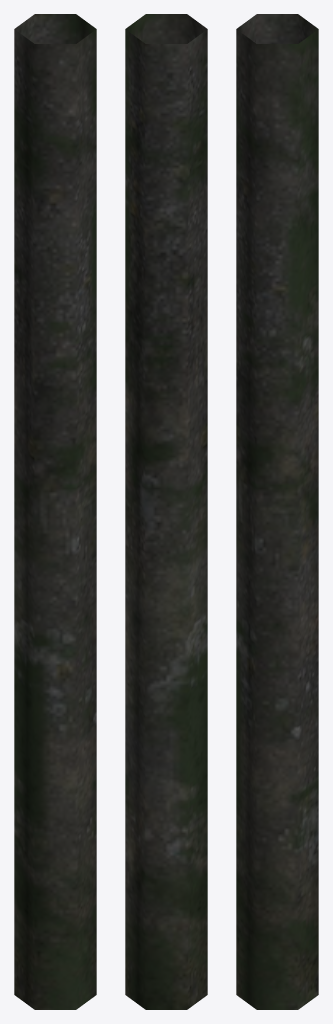
The model's file is MossyThick_M02.FBX.
The picture shows the model from 3 angles, left to right: view 1: azimuth 30°, elevation 25°; view 2: azimuth 150°, elevation 25°; view 3: azimuth 330°, elevation 25°; orthographic projection.
Visible parts, largest first — view 1: MossyThick_M02; view 2: MossyThick_M02; view 3: MossyThick_M02.
Boxes of the visible parts, x1=… form: MossyThick_M02: x1=14, y1=14, x2=96, y2=1009; MossyThick_M02: x1=125, y1=14, x2=207, y2=1009; MossyThick_M02: x1=236, y1=14, x2=318, y2=1009.
Size of the model in its own units: 20.78 by 310 by 24.
